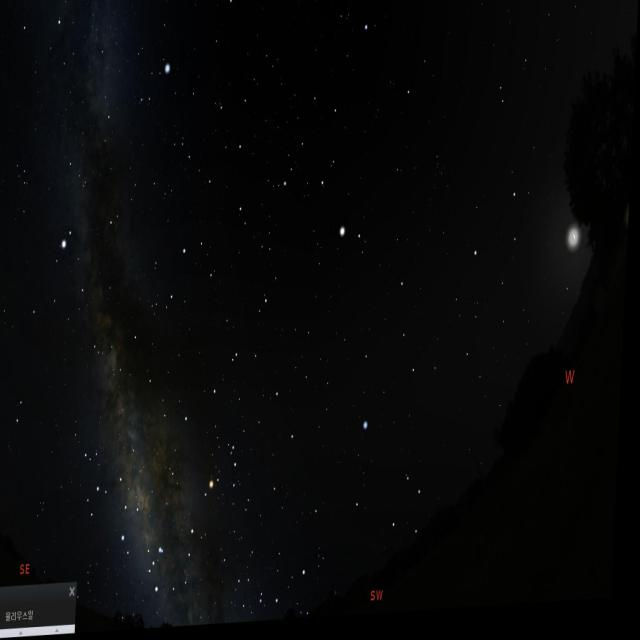aquila: (44, 200, 129, 368)
bootes: (290, 86, 381, 274)
leo: (465, 163, 607, 317)
lyra: (132, 50, 172, 113)
moon: (561, 213, 593, 282)
sagittarius: (81, 448, 148, 563)
scorpius: (150, 443, 248, 609)
